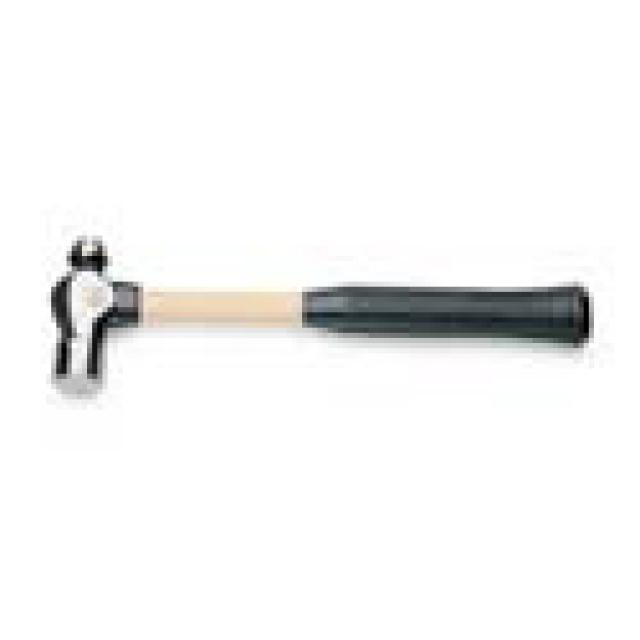hammer: (38, 223, 605, 409)
